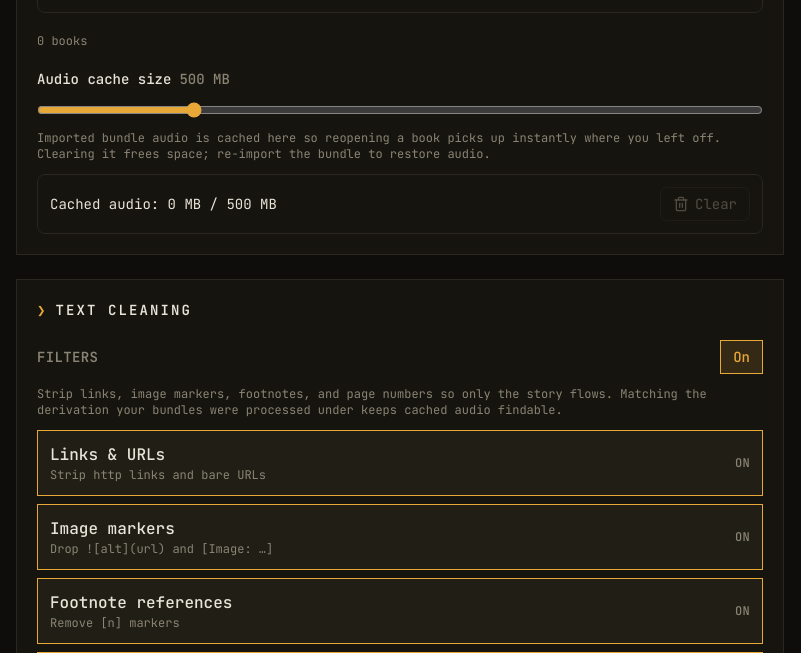
Settings — text cleaning › disables the master toggle and hides the filter rows
(page scrolled)
Click the button with aria-label "toggle text cleaning": (742, 357) top-left (720, 340), bottom-right (763, 374)
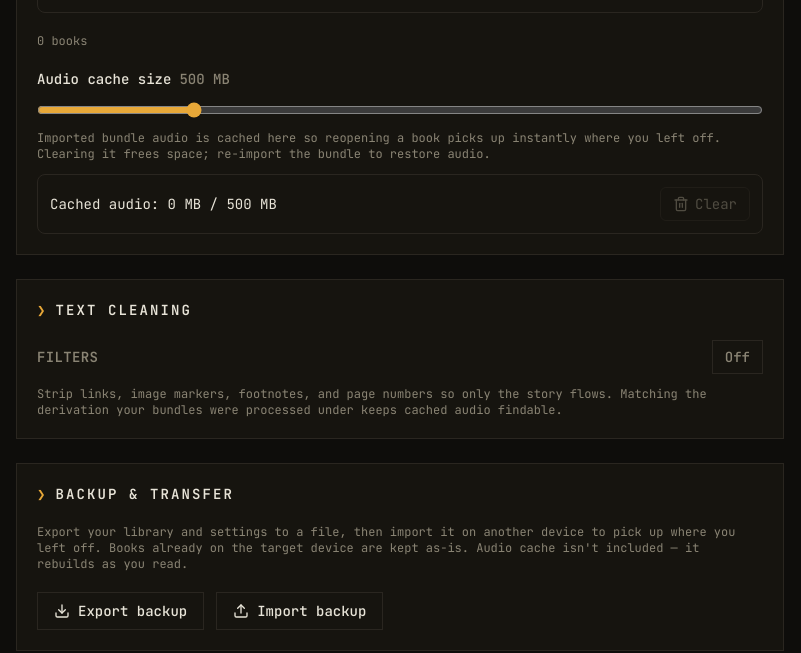
Check: the button "Links & URLs" is gone
